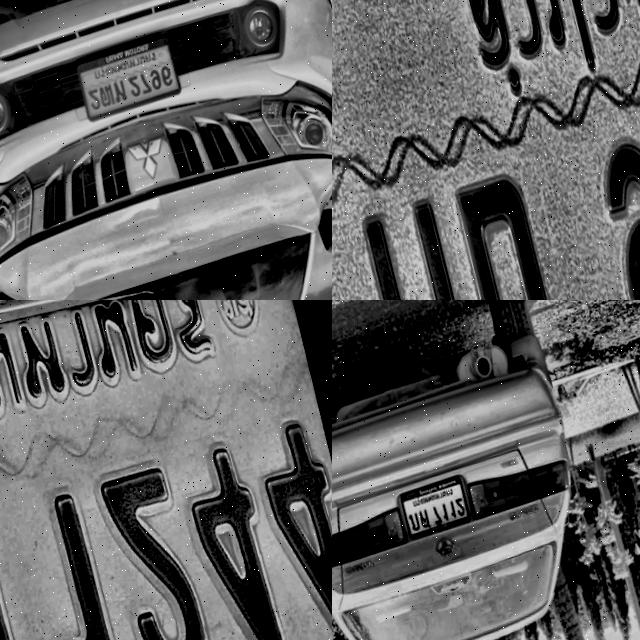license-plate: (0, 300, 332, 640), (332, 0, 640, 300), (69, 33, 186, 130), (397, 474, 474, 544)
